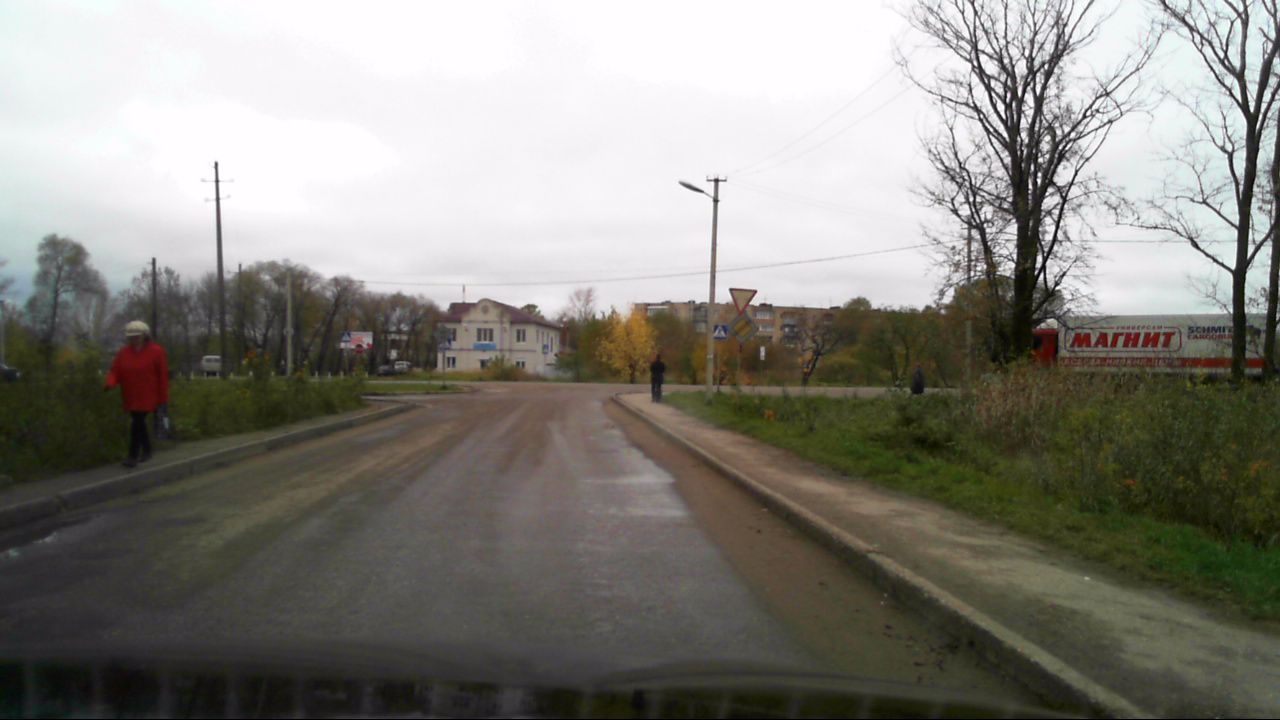main road: (728, 310, 759, 342)
